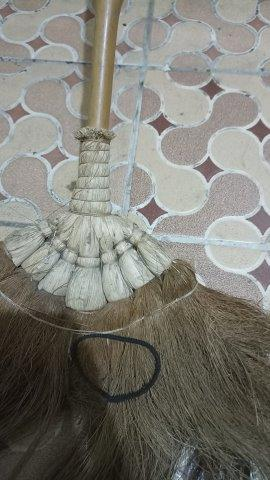karet: (72, 334, 160, 401)
